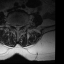CCS_normal: (16, 23, 19, 33)
LFS_stenosis: (21, 22, 23, 28)
LLS_normal: (19, 23, 21, 31)
RFS_severe_stenosis: (11, 22, 14, 29)
RLS_normal: (14, 22, 16, 31)
